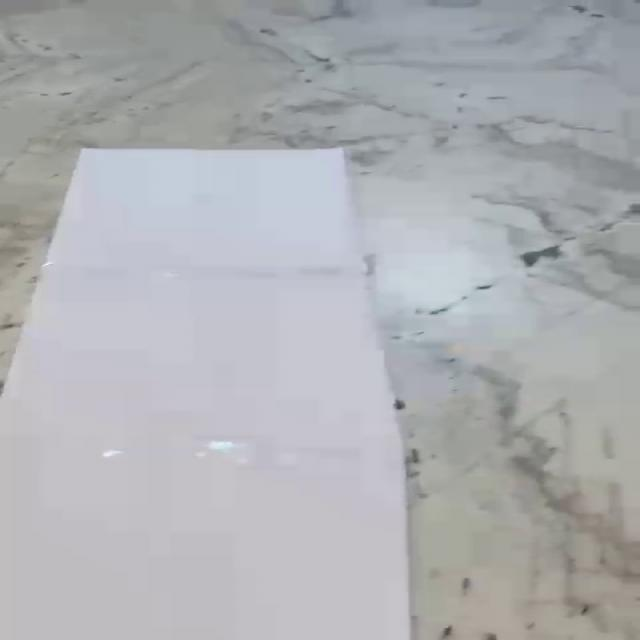road: (0, 149, 413, 640)
